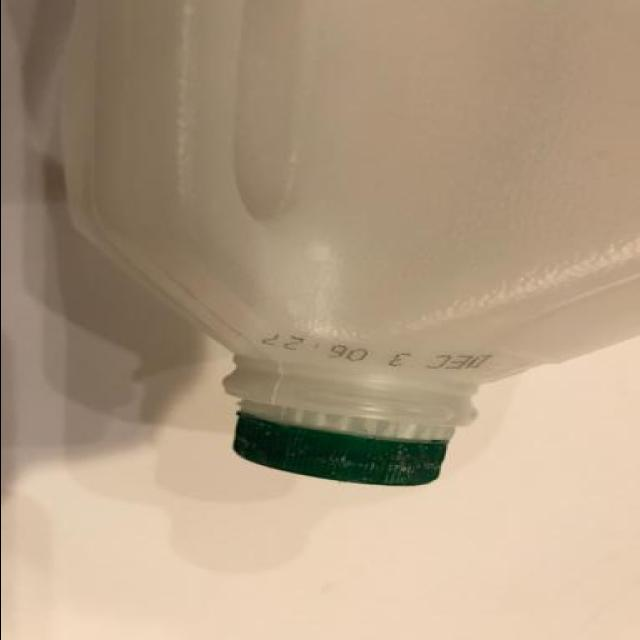litter: (58, 5, 640, 514), (62, 0, 638, 490)
